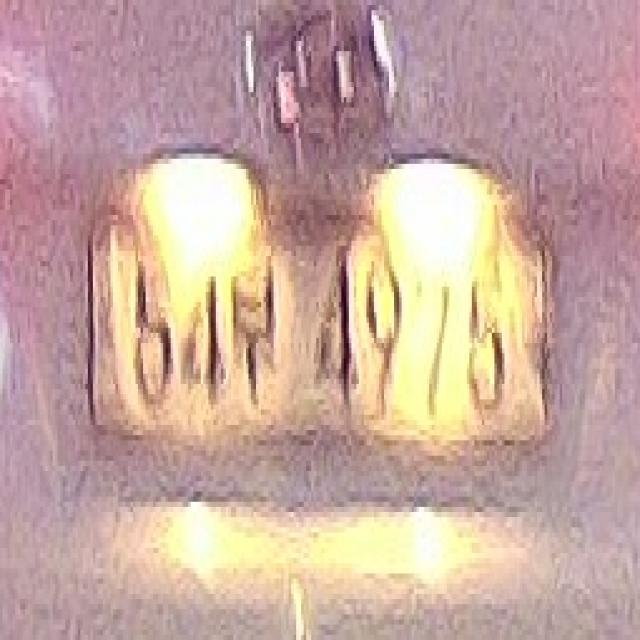4: (302, 230, 356, 404), (176, 251, 226, 404)
5: (123, 240, 173, 420), (470, 256, 524, 415)
7: (419, 266, 459, 430)
9: (359, 240, 409, 410)
bu: (223, 236, 286, 410)
license_plate: (83, 200, 552, 460)
